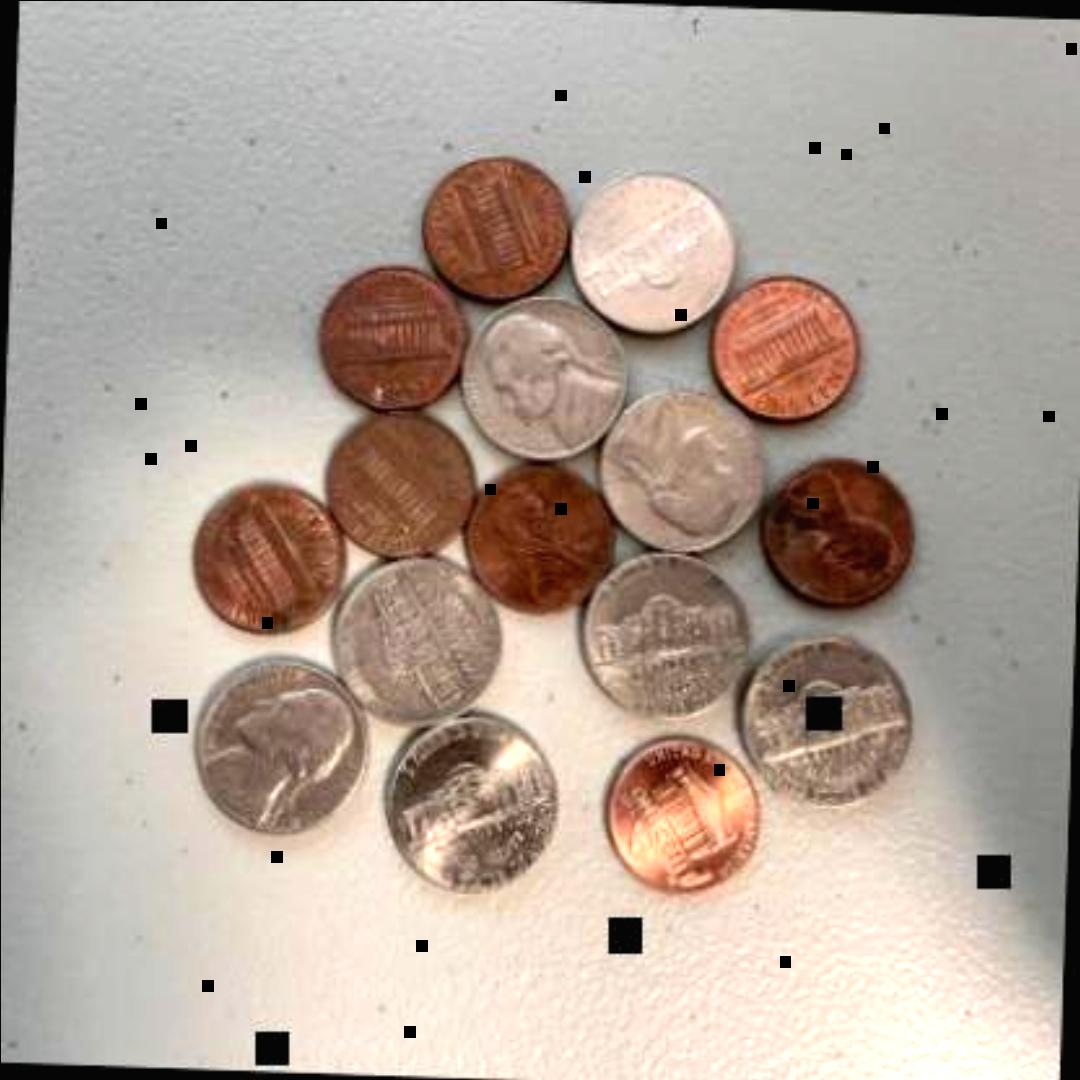Nickel: (376, 713, 572, 897), (184, 649, 366, 841), (736, 632, 917, 808), (590, 381, 770, 557), (326, 554, 508, 725), (454, 295, 636, 463), (578, 549, 754, 720), (566, 166, 734, 338)
Penny: (597, 731, 765, 899), (185, 476, 353, 636), (754, 454, 920, 608), (710, 269, 865, 429), (314, 258, 472, 412), (418, 147, 568, 305), (322, 406, 477, 558), (464, 461, 616, 614)
